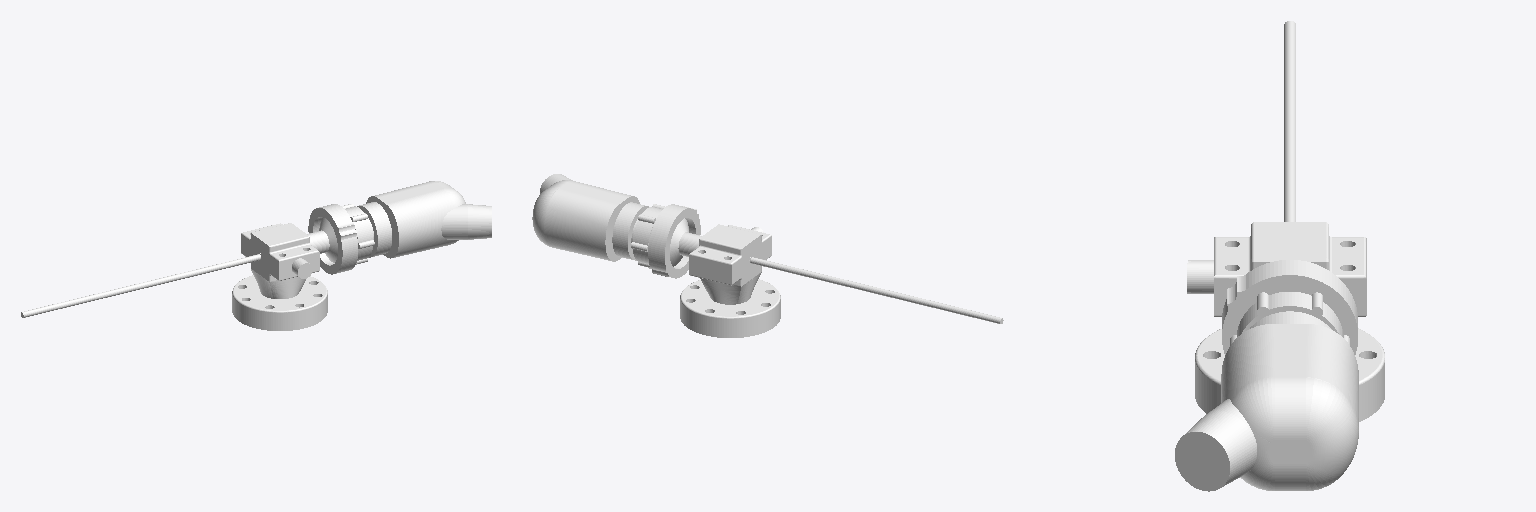
robot.urdf — lbr_storz_endoscope:
<?xml version="1.0" ?>
<!-- =================================================================================== -->
<!-- |    This document was autogenerated by xacro from lbr_storz_endoscope.urdf.xacro | -->
<!-- |    EDITING THIS FILE BY HAND IS NOT RECOMMENDED                                 | -->
<!-- =================================================================================== -->
<!-- Here we define the robot, we named it "lbr_storz_endoscope" -->
<robot name="lbr_storz_endoscope">
  <material name="orange">
    <color rgba="1.0 0.42 0.04 1.0"/>
  </material>
  <material name="white">
    <color rgba="1.0 1.0 1.0 1.0"/>
  </material>
  <material name="silver">
    <color rgba="0.7 0.7 0.7 1.0"/>
  </material>
  <!-- fix to world -->
  <link name="world"/>
  <!--joint between {parent} and link_0-->
  <joint name="world_lbr_joint" type="fixed">
    <parent link="world"/>
    <child link="lbr_link_0"/>
  </joint>
  <link name="lbr_link_0">
    <inertial>
      <origin rpy="0 0 0" xyz="-0.0018958727522859222 -8.736009549202623e-09 0.07626305487275586"/>
      <mass value="7.143078"/>
      <inertia ixx="0.038693" ixy="-0.000000" ixz="-0.000686" iyy="0.039461" iyz="-0.000000" izz="0.054387"/>
    </inertial>
    <visual>
      <origin rpy="0 0 0" xyz="0 0 0"/>
      <geometry>
        <mesh filename="lbr_description/meshes/med7/visual/link_0.stl"/>
      </geometry>
      <material name="white"/>
    </visual>
    <collision>
      <origin rpy="0 0 0" xyz="0 0 0"/>
      <geometry>
        <mesh filename="lbr_description/meshes/med7/collision/link_0.stl"/>
      </geometry>
    </collision>
  </link>
  <joint name="lbr_joint_0" type="revolute">
    <origin rpy="0 0 0" xyz="0.0 0.0 0.1475"/>
    <parent link="lbr_link_0"/>
    <child link="lbr_link_1"/>
    <axis xyz="0.0 0.0 1.0"/>
    <limit effort="100" lower="-2.9670597283903604" upper="2.9670597283903604" velocity="10"/>
    <dynamics damping="10.0" friction="0.1"/>
  </joint>
  <link name="lbr_link_1">
    <inertial>
      <origin rpy="0 0 0" xyz="5.010328793588479e-08 -0.03481903813472808 0.12329857163085542"/>
      <mass value="3.271492"/>
      <inertia ixx="0.020611" ixy="-0.000000" ixz="0.000000" iyy="0.019667" iyz="0.003660" izz="0.007290"/>
    </inertial>
    <visual>
      <origin rpy="0 0 0" xyz="-0.0 0.0 -0.1475"/>
      <geometry>
        <mesh filename="lbr_description/meshes/med7/visual/link_1.stl"/>
      </geometry>
      <material name="white"/>
    </visual>
    <collision>
      <origin rpy="0 0 0" xyz="-0.0 0.0 -0.1475"/>
      <geometry>
        <mesh filename="lbr_description/meshes/med7/collision/link_1.stl"/>
      </geometry>
    </collision>
  </link>
  <joint name="lbr_joint_1" type="revolute">
    <origin rpy="0 0 0" xyz="-0.0 -0.0105 0.1925"/>
    <parent link="lbr_link_1"/>
    <child link="lbr_link_2"/>
    <axis xyz="0.0 1.0 0.0"/>
    <limit effort="100" lower="-2.0943951023931953" upper="2.0943951023931953" velocity="10"/>
    <dynamics damping="10.0" friction="0.1"/>
  </joint>
  <link name="lbr_link_2">
    <inertial>
      <origin rpy="0 0 0" xyz="2.958275959973659e-08 0.03979295468456965 0.08694361150855662"/>
      <mass value="3.886440"/>
      <inertia ixx="0.030552" ixy="-0.000000" ixz="0.000000" iyy="0.028995" iyz="0.005676" izz="0.009317"/>
    </inertial>
    <visual>
      <origin rpy="0 0 0" xyz="0.0 0.0105 -0.34"/>
      <geometry>
        <mesh filename="lbr_description/meshes/med7/visual/link_2.stl"/>
      </geometry>
      <material name="white"/>
    </visual>
    <collision>
      <origin rpy="0 0 0" xyz="0.0 0.0105 -0.34"/>
      <geometry>
        <mesh filename="lbr_description/meshes/med7/collision/link_2.stl"/>
      </geometry>
    </collision>
  </link>
  <joint name="lbr_joint_2" type="revolute">
    <origin rpy="0 0 0" xyz="0.0 0.0105 0.2075"/>
    <parent link="lbr_link_2"/>
    <child link="lbr_link_3"/>
    <axis xyz="0.0 0.0 1.0"/>
    <limit effort="100" lower="-2.9670597283903604" upper="2.9670597283903604" velocity="10"/>
    <dynamics damping="10.0" friction="0.1"/>
  </joint>
  <link name="lbr_link_3">
    <inertial>
      <origin rpy="0 0 0" xyz="-5.010330962930412e-08 0.03481903813473644 0.1232985716309013"/>
      <mass value="3.271492"/>
      <inertia ixx="0.020611" ixy="-0.000000" ixz="-0.000000" iyy="0.019667" iyz="-0.003660" izz="0.007290"/>
    </inertial>
    <visual>
      <origin rpy="0 0 0" xyz="0.0 -0.0 -0.5475"/>
      <geometry>
        <mesh filename="lbr_description/meshes/med7/visual/link_3.stl"/>
      </geometry>
      <material name="white"/>
    </visual>
    <collision>
      <origin rpy="0 0 0" xyz="0.0 -0.0 -0.5475"/>
      <geometry>
        <mesh filename="lbr_description/meshes/med7/collision/link_3.stl"/>
      </geometry>
    </collision>
  </link>
  <joint name="lbr_joint_3" type="revolute">
    <origin rpy="0 0 0" xyz="0.0 0.0105 0.1925"/>
    <parent link="lbr_link_3"/>
    <child link="lbr_link_4"/>
    <axis xyz="0.0 -1.0 0.0"/>
    <limit effort="100" lower="-2.0943951023931953" upper="2.0943951023931953" velocity="10"/>
    <dynamics damping="10.0" friction="0.1"/>
  </joint>
  <link name="lbr_link_4">
    <inertial>
      <origin rpy="0 0 0" xyz="-3.025230048709993e-08 -0.03979329512443697 0.08694363375610437"/>
      <mass value="3.886439"/>
      <inertia ixx="0.030551" ixy="-0.000000" ixz="-0.000000" iyy="0.028993" iyz="-0.005676" izz="0.009316"/>
    </inertial>
    <visual>
      <origin rpy="0 0 0" xyz="-0.0 -0.0105 -0.74"/>
      <geometry>
        <mesh filename="lbr_description/meshes/med7/visual/link_4.stl"/>
      </geometry>
      <material name="white"/>
    </visual>
    <collision>
      <origin rpy="0 0 0" xyz="-0.0 -0.0105 -0.74"/>
      <geometry>
        <mesh filename="lbr_description/meshes/med7/collision/link_4.stl"/>
      </geometry>
    </collision>
  </link>
  <joint name="lbr_joint_4" type="revolute">
    <origin rpy="0 0 0" xyz="-0.0 -0.0105 0.2075"/>
    <parent link="lbr_link_4"/>
    <child link="lbr_link_5"/>
    <axis xyz="0.0 0.0 1.0"/>
    <limit effort="100" lower="-2.9670597283903604" upper="2.9670597283903604" velocity="10"/>
    <dynamics damping="10.0" friction="0.1"/>
  </joint>
  <link name="lbr_link_5">
    <inertial>
      <origin rpy="0 0 0" xyz="3.887174133882675e-08 -0.02982428408876193 0.07626701716135398"/>
      <mass value="1.474035"/>
      <inertia ixx="0.008179" ixy="0.000000" ixz="-0.000000" iyy="0.006879" iyz="0.002704" izz="0.003709"/>
    </inertial>
    <visual>
      <origin rpy="0 0 0" xyz="0.0 0.0 -0.9475"/>
      <geometry>
        <mesh filename="lbr_description/meshes/med7/visual/link_5.stl"/>
      </geometry>
      <material name="white"/>
    </visual>
    <collision>
      <origin rpy="0 0 0" xyz="0.0 0.0 -0.9475"/>
      <geometry>
        <mesh filename="lbr_description/meshes/med7/collision/link_5.stl"/>
      </geometry>
    </collision>
  </link>
  <joint name="lbr_joint_5" type="revolute">
    <origin rpy="0 0 0" xyz="0.0 -0.0707 0.1925"/>
    <parent link="lbr_link_5"/>
    <child link="lbr_link_6"/>
    <axis xyz="0.0 1.0 0.0"/>
    <limit effort="100" lower="-2.0943951023931953" upper="2.0943951023931953" velocity="10"/>
    <dynamics damping="10.0" friction="0.1"/>
  </joint>
  <link name="lbr_link_6">
    <inertial>
      <origin rpy="0 0 0" xyz="-7.073221144775636e-07 0.07101990943401648 0.004952526180360017"/>
      <mass value="2.316917"/>
      <inertia ixx="0.006813" ixy="-0.000000" ixz="0.000000" iyy="0.006559" iyz="0.000300" izz="0.004462"/>
    </inertial>
    <visual>
      <origin rpy="0 0 0" xyz="0.0 0.0707 -1.14"/>
      <geometry>
        <mesh filename="lbr_description/meshes/med7/visual/link_6.stl"/>
      </geometry>
      <material name="white"/>
    </visual>
    <collision>
      <origin rpy="0 0 0" xyz="0.0 0.0707 -1.14"/>
      <geometry>
        <mesh filename="lbr_description/meshes/med7/collision/link_6.stl"/>
      </geometry>
    </collision>
  </link>
  <joint name="lbr_joint_6" type="revolute">
    <origin rpy="0 0 0" xyz="0.0 0.0707 0.091"/>
    <parent link="lbr_link_6"/>
    <child link="lbr_link_7"/>
    <axis xyz="0.0 0.0 1.0"/>
    <limit effort="100" lower="-3.0543261909900763" upper="3.0543261909900763" velocity="10"/>
    <dynamics damping="10.0" friction="0.1"/>
  </joint>
  <link name="lbr_link_7">
    <inertial>
      <origin rpy="0 0 0" xyz="3.1218274599808524e-06 -1.6358155634513969e-06 0.013782295521067356"/>
      <mass value="0.250107"/>
      <inertia ixx="0.000165" ixy="0.000000" ixz="-0.000000" iyy="0.000165" iyz="0.000000" izz="0.000288"/>
    </inertial>
    <visual>
      <origin rpy="0 0 0" xyz="-0.0 -0.0 -1.231"/>
      <geometry>
        <mesh filename="lbr_description/meshes/med7/visual/link_7.stl"/>
      </geometry>
      <material name="silver"/>
    </visual>
    <collision>
      <origin rpy="0 0 0" xyz="-0.0 -0.0 -1.231"/>
      <geometry>
        <mesh filename="lbr_description/meshes/med7/collision/link_7.stl"/>
      </geometry>
    </collision>
  </link>
  <joint name="lbr_joint_ee" type="fixed">
    <parent link="lbr_link_7"/>
    <child link="lbr_link_ee"/>
    <origin rpy="0 0 0" xyz="0 0 0.035"/>
  </joint>
  <link name="lbr_link_ee">
        </link>
  <!-- ros_control-plugin -->
  <gazebo>
    <plugin filename="libgazebo_ros2_control.so" name="gazebo_ros2_control">
      <parameters>[local-path]/ros/lbr_with_tools_ws/install/lbr_bringup/share/lbr_bringup/config/lbr_controllers.yml</parameters>
      <robotNamespace>/lbr</robotNamespace>
    </plugin>
  </gazebo>
  <!-- link 0 -->
  <gazebo reference="lbr_link_0">
    <mu1>0.2</mu1>
    <mu2>0.2</mu2>
    <material>Gazebo/White</material>
  </gazebo>
  <!-- link 1 -->
  <gazebo reference="lbr_link_1">
    <mu1>0.2</mu1>
    <mu2>0.2</mu2>
    <material>Gazebo/White</material>
  </gazebo>
  <!-- link 2 -->
  <gazebo reference="lbr_link_2">
    <mu1>0.2</mu1>
    <mu2>0.2</mu2>
    <material>Gazebo/White</material>
  </gazebo>
  <!-- link 3 -->
  <gazebo reference="lbr_link_3">
    <mu1>0.2</mu1>
    <mu2>0.2</mu2>
    <material>Gazebo/White</material>
  </gazebo>
  <!-- link 4 -->
  <gazebo reference="lbr_link_4">
    <mu1>0.2</mu1>
    <mu2>0.2</mu2>
    <material>Gazebo/White</material>
  </gazebo>
  <!-- link 5 -->
  <gazebo reference="lbr_link_5">
    <mu1>0.2</mu1>
    <mu2>0.2</mu2>
    <material>Gazebo/White</material>
  </gazebo>
  <!-- link 6 -->
  <gazebo reference="lbr_link_6">
    <mu1>0.2</mu1>
    <mu2>0.2</mu2>
    <material>Gazebo/White</material>
  </gazebo>
  <!-- link 7 -->
  <gazebo reference="lbr_link_7">
    <mu1>0.2</mu1>
    <mu2>0.2</mu2>
    <material>Gazebo/Grey</material>
  </gazebo>
  <!-- arg for control mode -->
  <ros2_control name="lbr_hardware_interface" type="system">
    <hardware>
      <plugin>gazebo_ros2_control/GazeboSystem</plugin>
    </hardware>
    <!-- define joints and command/state interfaces for each joint -->
    <joint name="lbr_joint_0">
      <command_interface name="position">
        <!-- better to use radians as min max first -->
        <param name="min">-1</param>
        <param name="max"> 1</param>
      </command_interface>
      <command_interface name="effort">
        <param name="min">-1</param>
        <param name="max"> 1</param>
      </command_interface>
      <state_interface name="position"/>
      <state_interface name="effort"/>
    </joint>
    <joint name="lbr_joint_1">
      <command_interface name="position">
        <param name="min">-1</param>
        <param name="max"> 1</param>
      </command_interface>
      <command_interface name="effort">
        <param name="min">-1</param>
        <param name="max"> 1</param>
      </command_interface>
      <state_interface name="position"/>
      <state_interface name="effort"/>
    </joint>
    <joint name="lbr_joint_2">
      <command_interface name="position">
        <param name="min">-1</param>
        <param name="max"> 1</param>
      </command_interface>
      <command_interface name="effort">
        <param name="min">-1</param>
        <param name="max"> 1</param>
      </command_interface>
      <state_interface name="position"/>
      <state_interface name="effort"/>
    </joint>
    <joint name="lbr_joint_3">
      <command_interface name="position">
        <param name="min">-1</param>
        <param name="max"> 1</param>
      </command_interface>
      <command_interface name="effort">
        <param name="min">-1</param>
        <param name="max"> 1</param>
      </command_interface>
      <state_interface name="position"/>
      <state_interface name="effort"/>
    </joint>
    <joint name="lbr_joint_4">
      <command_interface name="position">
        <param name="min">-1</param>
        <param name="max"> 1</param>
      </command_interface>
      <command_interface name="effort">
        <param name="min">-1</param>
        <param name="max"> 1</param>
      </command_interface>
      <state_interface name="position"/>
      <state_interface name="effort"/>
    </joint>
    <joint name="lbr_joint_5">
      <command_interface name="position">
        <param name="min">-1</param>
        <param name="max"> 1</param>
      </command_interface>
      <command_interface name="effort">
        <param name="min">-1</param>
        <param name="max"> 1</param>
      </command_interface>
      <state_interface name="position"/>
      <state_interface name="effort"/>
    </joint>
    <joint name="lbr_joint_6">
      <command_interface name="position">
        <param name="min">-1</param>
        <param name="max"> 1</param>
      </command_interface>
      <command_interface name="effort">
        <param name="min">-1</param>
        <param name="max"> 1</param>
      </command_interface>
      <state_interface name="position"/>
      <state_interface name="effort"/>
    </joint>
  </ros2_control>
  <!--joint between {parent} and link_0-->
  <joint name="lbr_link_ee_storz_endoscope_joint" type="fixed">
    <parent link="lbr_link_ee"/>
    <child link="storz_endoscope_link_0"/>
    <origin rpy="0 0 1.57079632679" xyz="0 0 0"/>
  </joint>
  <!-- link 0 -->
  <link name="storz_endoscope_link_0">
    <inertial>
      <origin rpy="0 0 0" xyz="0.05347530282631193 -0.0009866876037994033 0.03417463143575086"/>
      <mass value="1.5884453511086485"/>
      <inertia ixx="0.000641" ixy="9.6e-05" ixz="-0.000622" iyy="0.004145" iyz="1.2e-05" izz="0.003991"/>
    </inertial>
    <visual>
      <origin rpy="0 0 0" xyz="0 0 0"/>
      <geometry>
        <mesh filename="storz_endoscope_description/meshes/visual/link_0.stl" scale="0.001 0.001 0.001"/>
      </geometry>
      <material name="white">
        <color rgba="1.0 1.0 1.0 1.0"/>
      </material>
    </visual>
    <collision>
      <origin rpy="0 0 0" xyz="0 0 0"/>
      <geometry>
        <mesh filename="storz_endoscope_description/meshes/collision/link_0.stl" scale="0.001 0.001 0.001"/>
      </geometry>
    </collision>
  </link>
  <joint name="storz_endoscope_joint_1" type="fixed">
    <origin rpy="0 0 0" xyz="-0.015 0.0 0.0415"/>
    <parent link="storz_endoscope_link_0"/>
    <child link="storz_endoscope_link_1"/>
  </joint>
  <!-- link 1 -->
  <link name="storz_endoscope_link_1">
    <inertial>
      <origin rpy="0 0 0" xyz="-0.08761286703720295 1.6070339520327724e-16 2.081251837537934e-13"/>
      <mass value="0.017299976665697662"/>
      <inertia ixx="0.0" ixy="-0.0" ixz="-0.0" iyy="4.4e-05" iyz="-0.0" izz="4.4e-05"/>
    </inertial>
    <visual>
      <origin rpy="0 0 0" xyz="0.015 -0.0 -0.0415"/>
      <geometry>
        <mesh filename="storz_endoscope_description/meshes/visual/link_1.stl" scale="0.001 0.001 0.001"/>
      </geometry>
      <material name="white">
        <color rgba="1.0 1.0 1.0 1.0"/>
      </material>
    </visual>
    <collision>
      <origin rpy="0 0 0" xyz="0.015 -0.0 -0.0415"/>
      <geometry>
        <mesh filename="storz_endoscope_description/meshes/collision/link_1.stl" scale="0.001 0.001 0.001"/>
      </geometry>
    </collision>
  </link>
  <joint name="storz_endoscope_joint_cm" type="fixed">
    <origin rpy="1.57079632679 0 3.141592654" xyz="-0.1753 0.0 0.0"/>
    <parent link="storz_endoscope_link_1"/>
    <child link="storz_endoscope_link_cm"/>
  </joint>
  <!-- camera link -->
  <link name="storz_endoscope_link_cm"/>
  <!-- optical frame https://answers.ros.org/question/232534/gazebo-camera-frame-is-inconsistent-with-rviz-opencv-convention/ -->
  <joint name="storz_endoscope_joint_cm_optical" type="fixed">
    <!-- add continuous joint to rotate image digitally -->
    <parent link="storz_endoscope_link_cm"/>
    <child link="storz_endoscope_link_cm_optical"/>
    <origin rpy="-1.57079632679 0 -1.57079632679" xyz="0 0 0"/>
    <!--axis xyz="0.0 0.0 0.01"/-->
    <!-- rotate about the optical axis -->
  </joint>
  <link name="storz_endoscope_link_cm_optical">
        </link>
  <!-- link 0 -->
  <gazebo reference="storz_endoscope_link_0">
    <mu1>0.2</mu1>
    <mu2>0.2</mu2>
    <material>Gazebo/Grey</material>
    <gravity>0</gravity>
  </gazebo>
  <!-- link 1 -->
  <gazebo reference="storz_endoscope_link_1">
    <mu1>0.2</mu1>
    <mu2>0.2</mu2>
    <material>Gazebo/Grey</material>
    <gravity>0</gravity>
  </gazebo>
  <!-- camera -->
  <gazebo reference="storz_endoscope_link_cm">
    <sensor name="storz_endoscope_camera" type="camera">
      <update_rate>30.0</update_rate>
      <camera name="head">
        <horizontal_fov>1.3962634</horizontal_fov>
        <image>
          <width>320</width>
          <height>240</height>
          <format>R8G8B8</format>
        </image>
        <clip>
          <near>0.02</near>
          <far>300</far>
        </clip>
      </camera>
      <plugin filename="libgazebo_ros_camera.so" name="camera_controller">
        <alwaysOn>true</alwaysOn>
        <updateRate>0.0</updateRate>
        <robotNamespace>/lbr</robotNamespace>
        <cameraName>storz_endoscope_camera</cameraName>
        <imageTopicName>image_raw</imageTopicName>
        <cameraInfoTopicName>camera_info</cameraInfoTopicName>
        <frameName>storz_endoscope_link_cm_optical</frameName>
        <hackBaseline>0.07</hackBaseline>
        <distortionK1>0.0</distortionK1>
        <distortionK2>0.0</distortionK2>
        <distortionK3>0.0</distortionK3>
        <distortionT1>0.0</distortionT1>
        <distortionT2>0.0</distortionT2>
      </plugin>
    </sensor>
    <gravity>0</gravity>
  </gazebo>
</robot>

--- Facts derived from the render (not from the file) ---
3 views of the same robot in one strip: view 1: azimuth 30°, elevation 25°; view 2: azimuth 150°, elevation 25°; view 3: azimuth 270°, elevation 25° (orthographic).
Model lbr_storz_endoscope with 14 links and 13 joints (7 revolute, 6 fixed), rooted at world, posed all joints at 0.
Visible links, largest first — view 1: lbr_link_0, lbr_link_1; view 2: lbr_link_0, lbr_link_1; view 3: lbr_link_0, lbr_link_1.
Boxes of the visible links, left/top/right/bottom form: lbr_link_0: left=232, top=181, right=491, bottom=330; lbr_link_1: left=21, top=252, right=261, bottom=317; lbr_link_0: left=532, top=174, right=780, bottom=337; lbr_link_1: left=749, top=255, right=1003, bottom=323; lbr_link_0: left=1175, top=222, right=1384, bottom=491; lbr_link_1: left=1284, top=21, right=1295, bottom=221.
Bounding box of the posed robot: 335 × 67.49 × 63.35 m (x, y, z).
Meshes: 10 distinct files referenced, 4 mesh visuals loaded (2 binary STL); not drawn: 6 (reference not matched to a file when rendering).